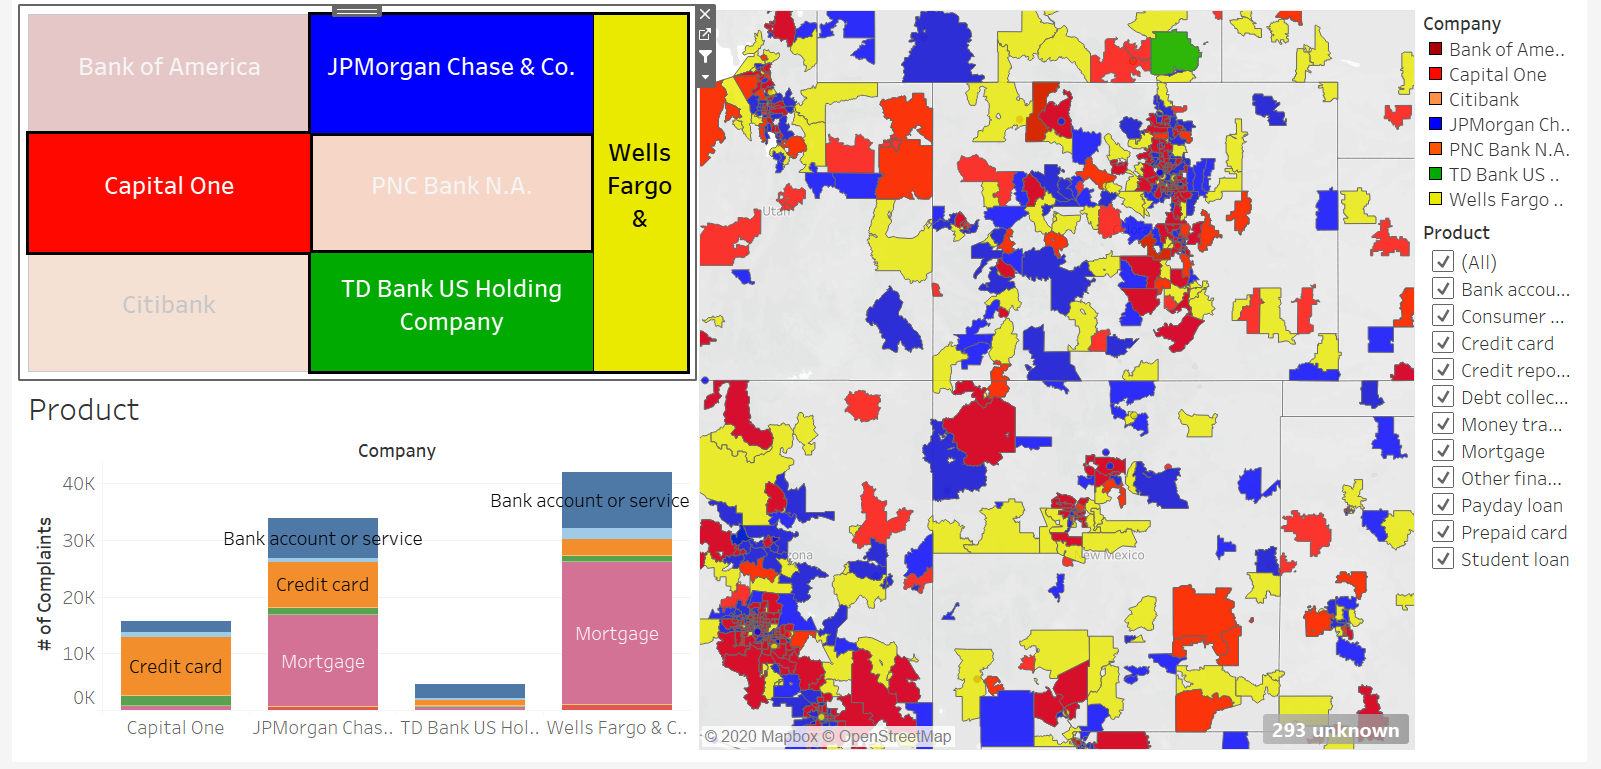

The dashboard page shown, as its layout file describes it:
{"tool":"tableau","page":{"name":"Dashboard 1","canvas":[1000,1000],"units":"permille","ordinal":0},"visuals":[{"type":"worksheet","title":"Banks","mark":"Automatic","box":[5.1,10.5,428.6,488.2]},{"type":"worksheet","title":"State map","mark":"Multipolygon","box":[433.7,10.5,459.7,979.1]},{"type":"legend","title":"Banks","param":"[federated.0g799zd1b8lb1p19bwwzn196hffh].[none:Company:nk]","box":[893.3,10.5,101.6,273.6]},{"type":"filter","title":"Product","param":"[federated.0g799zd1b8lb1p19bwwzn196hffh].[none:Product:nk]","box":[893.3,284,101.6,476.4]},{"type":"worksheet","title":"Product","mark":"Automatic","rows":["complaint_id"],"cols":["Company"],"box":[5.1,498.7,428.6,490.8]}]}

Visuals, with their boxes on the dashboard's canvas, which has no fixed pixel size, in thousandths of its width and height (x1, y1, x2, y2). These are canvas units, not pixel positions in the 1601x769 screenshot, which may show the page scaled, cropped or inside an application window:
"Banks" worksheet: box(5, 10, 434, 499)
"State map" worksheet (Multipolygon marks): box(434, 10, 893, 990)
"Banks" legend: box(893, 10, 995, 284)
"Product" filter: box(893, 284, 995, 760)
"Product" worksheet: box(5, 499, 434, 990)
